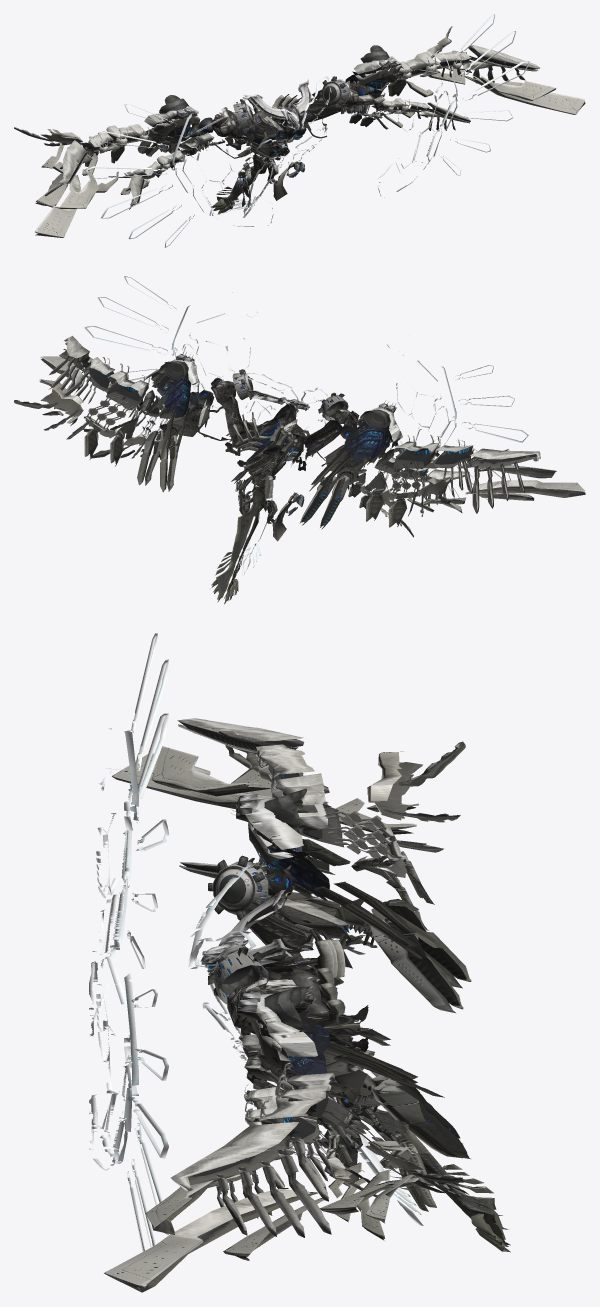
Rendered from eba001.glb.
3 views of the same model, one above another, from view 1: azimuth 30°, elevation 25°; view 2: azimuth 150°, elevation 25°; view 3: azimuth 270°, elevation 25° (orthographic). The views are drawn at different scales.
Parts seen in each view (by area): view 1: eba001; view 2: eba001; view 3: eba001.
Boxes of the visible parts, x1,y1,x2,y2 form: eba001: (14, 14, 585, 247); eba001: (14, 276, 585, 604); eba001: (89, 633, 510, 1292).
Size of the model in its own units: 73.19 by 27.79 by 24.43.
7 materials, 7 textured.
